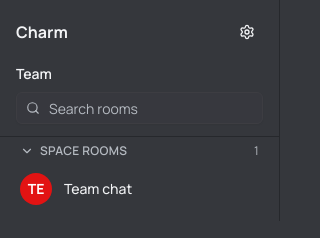
RoomList › refetches the space hierarchy after a successful Remove from space, so the row disappears immediately
Right-click the text "Team chat" at (98, 189), box [64,179,132,199]
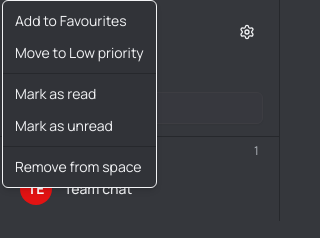
Click the menu item "Remove from space" at (78, 166), box [15,157,141,176]
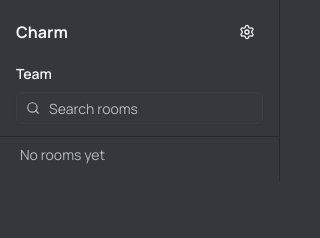
Now the button "Team chat" is gone
